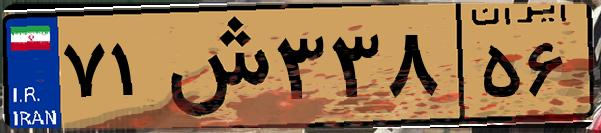1: (110, 28, 158, 98)
3: (270, 28, 330, 110), (330, 28, 385, 110)
5: (475, 38, 525, 113)
6: (525, 38, 570, 115)
7: (57, 26, 110, 100)
8: (385, 28, 445, 110)
ش: (158, 12, 270, 120)
